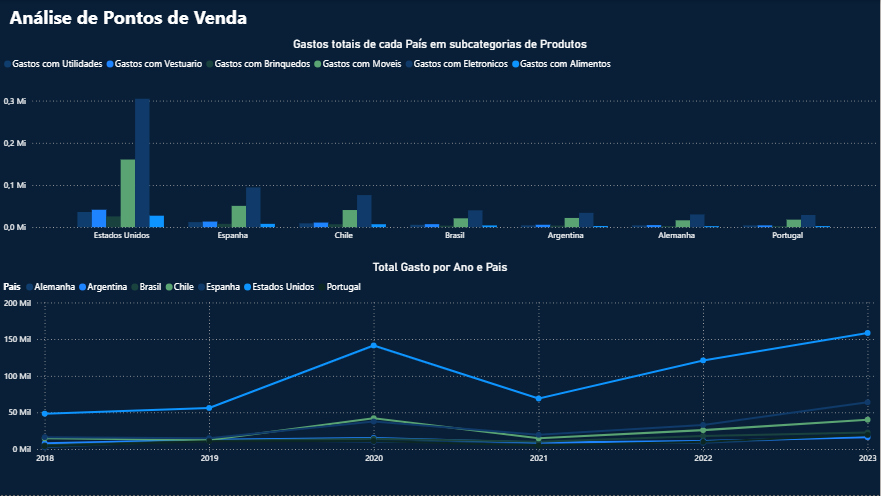

This screenshot's page, from the dashboard's own definition file:
{"tool":"powerbi","page":{"name":"Pontos de Venda","canvas":[1280,720],"ordinal":3},"visuals":[{"type":"textbox","box":[8.7,1.5,629.8,53.8],"z":0},{"type":"lineClusteredColumnComboChart","title":"Gastos totais de cada País em subcategorias de Produtos","fields":{"Category":["dados marketing.Pais"],"Y":["Sum(dados marketing.Gasto com Utilidades)","Sum(dados marketing.Gasto com Vestuario)","Sum(dados marketing.Gasto com Brinquedos)","Sum(dados marketing.Gasto com Moveis)","Sum(dados marketing.Gasto com Eletronicos)","Sum(dados marketing.Gasto com Alimentos)"]},"box":[0,53.8,1280,306.9],"z":1},{"type":"lineChart","fields":{"Y":["dados marketing.Total Gasto"],"Category":["dados marketing.Data Cadastro.Variation.Hierarquia de datas.Ano"],"Series":["dados marketing.Pais"]},"box":[0,378.2,1280,306.9],"z":2}]}

Visuals, with their boxes in screenshot pixels (x1, y1, x2, y2), scaled from the page's 1280x720 canvas onto the 881x496 screenshot:
textbox: box=[6, 1, 439, 38]
"Gastos totais de cada País em subcategorias de Produtos" lineClusteredColumnComboChart: box=[0, 37, 880, 248]
lineChart - dados marketing.Total Gasto x dados marketing.Data Cadastro.Variation.Hierarquia de datas.Ano: box=[0, 261, 880, 472]
